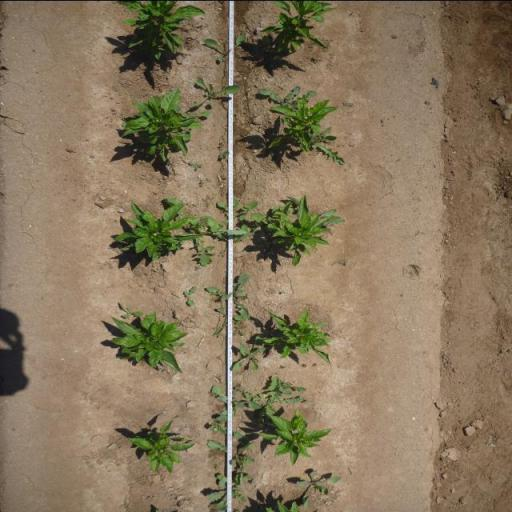plant: (111, 0, 205, 61), (120, 86, 190, 162), (271, 201, 345, 268), (110, 202, 192, 262), (108, 314, 189, 374), (266, 97, 340, 155), (257, 414, 333, 467), (126, 418, 196, 475), (264, 308, 330, 362), (260, 0, 334, 47)
weed: (238, 376, 306, 418), (206, 272, 252, 334), (217, 196, 269, 241), (207, 438, 255, 484), (296, 468, 344, 510), (188, 75, 242, 109), (204, 474, 253, 510), (210, 385, 260, 415), (191, 214, 219, 266), (311, 130, 350, 165), (232, 334, 266, 371), (202, 34, 246, 60), (208, 415, 250, 440), (259, 83, 300, 107), (118, 300, 145, 318), (182, 285, 198, 306), (232, 320, 248, 336), (202, 193, 215, 207), (188, 160, 203, 170), (198, 176, 211, 186), (336, 257, 350, 266), (266, 286, 276, 295), (218, 150, 229, 158), (278, 364, 286, 369), (300, 362, 306, 368), (312, 54, 318, 60), (280, 289, 286, 294)
